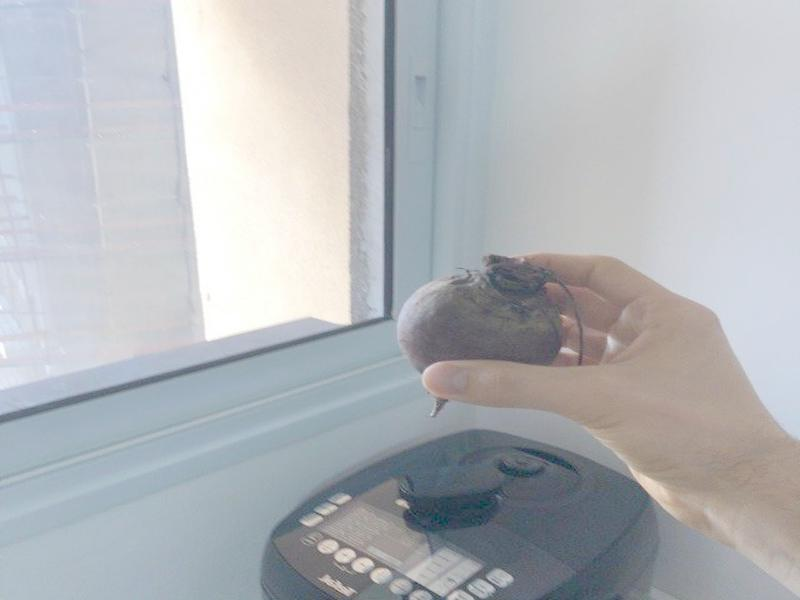Beet: (396, 254, 580, 416)
